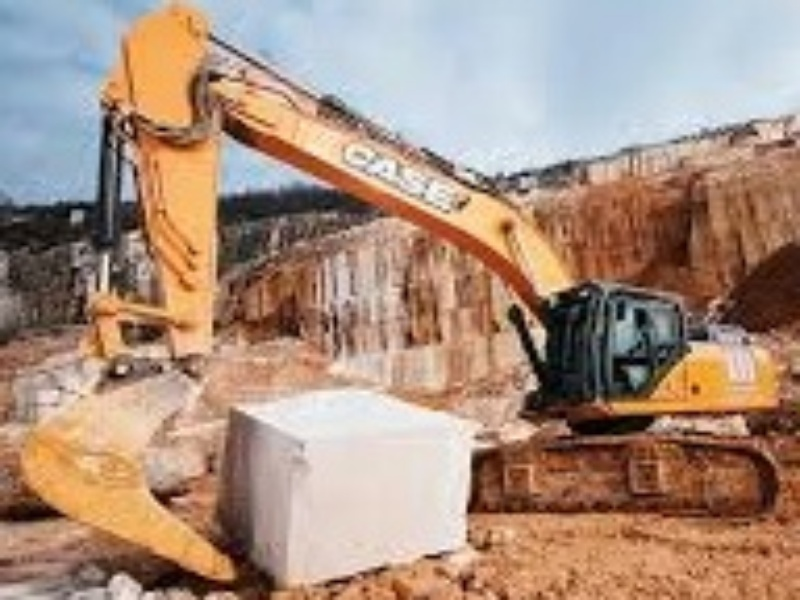wajueji: (458, 255, 791, 551)
